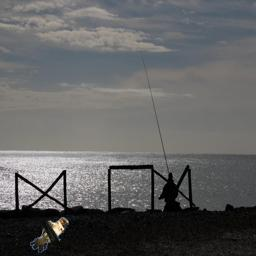Swallow: (30, 217, 69, 253)
